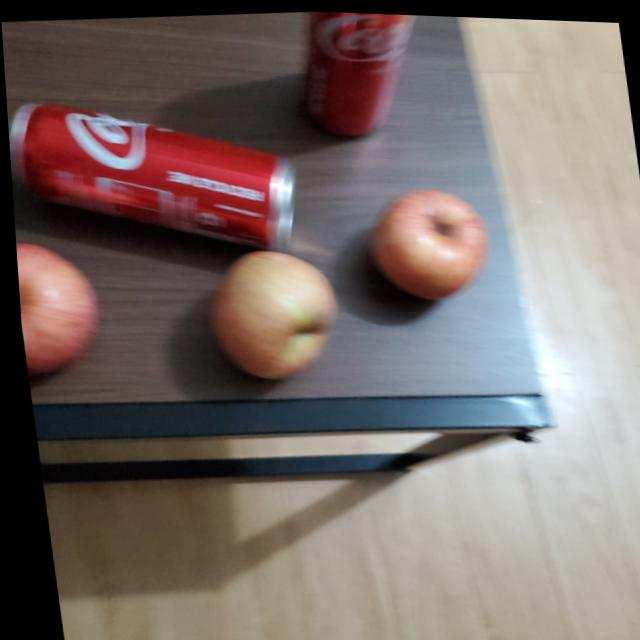apple: (200, 240, 343, 381), (291, 8, 431, 136), (360, 180, 496, 301), (12, 236, 99, 373)
coke: (4, 82, 300, 262)
